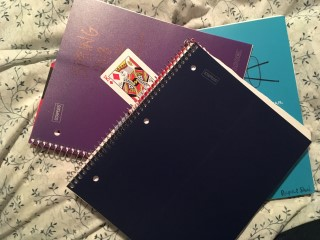KingOfDiamonds: (100, 48, 160, 106)
